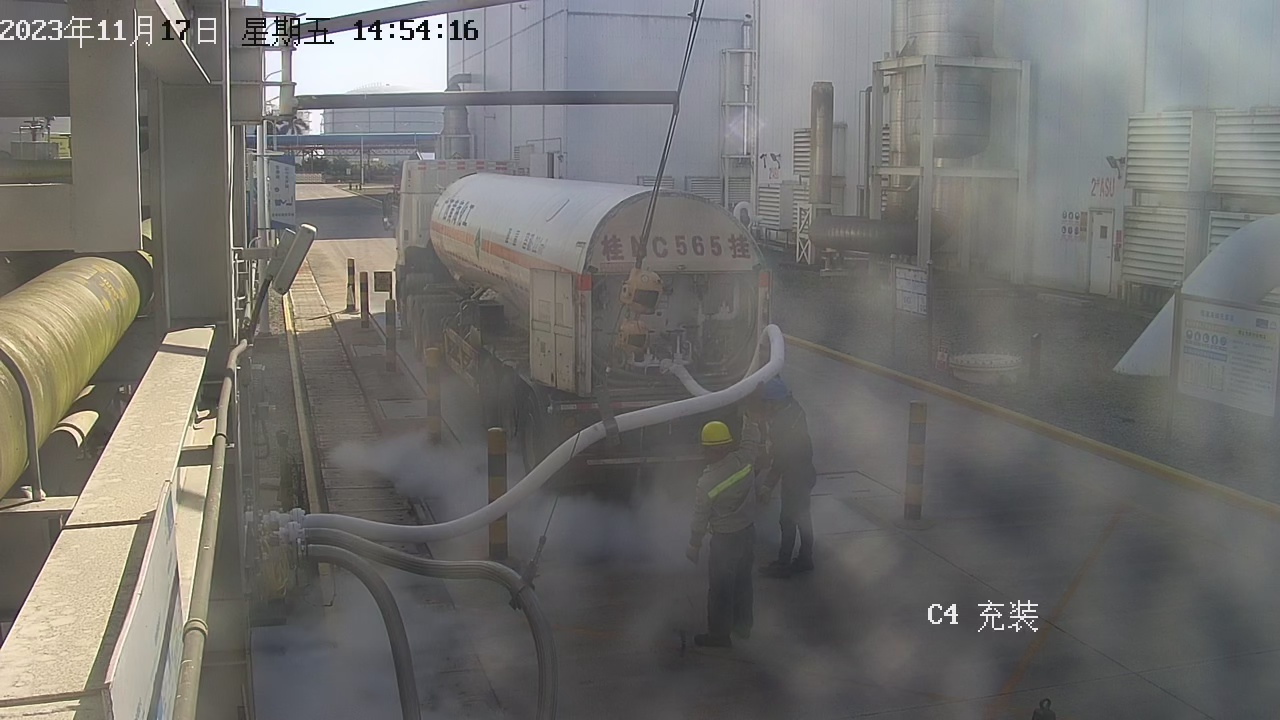Head_with_Helmet: (673, 409, 753, 465), (740, 369, 807, 418)
Uniform: (647, 445, 788, 652), (749, 400, 840, 583)
